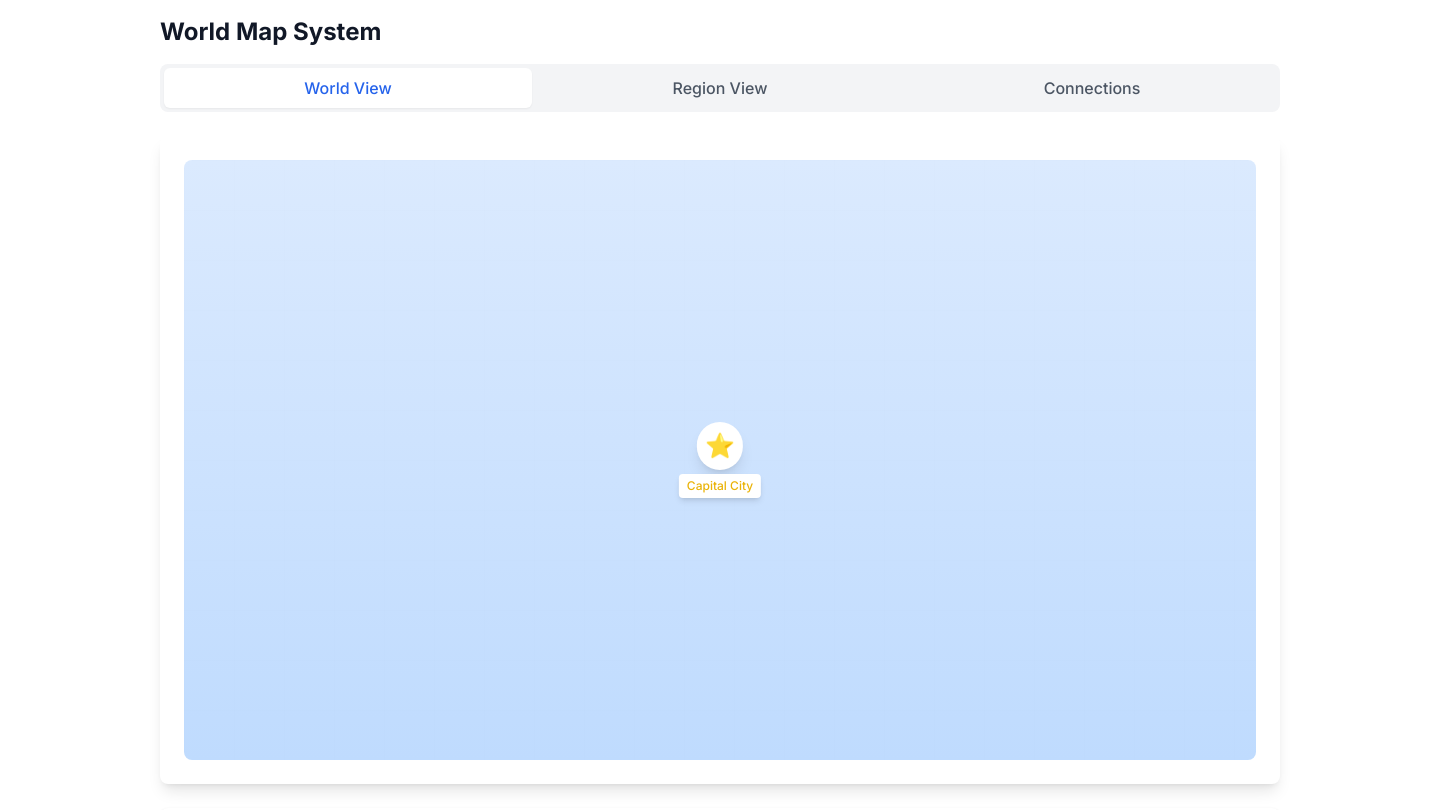
Test: WorldMapDisplay › Region View › should handle empty regions gracefully
Region Viewタブをクリック
What coordinates should you click on to do the following:
click the text "Region View"
I would click on:
 (720, 88)
Its box is [673, 78, 767, 98].
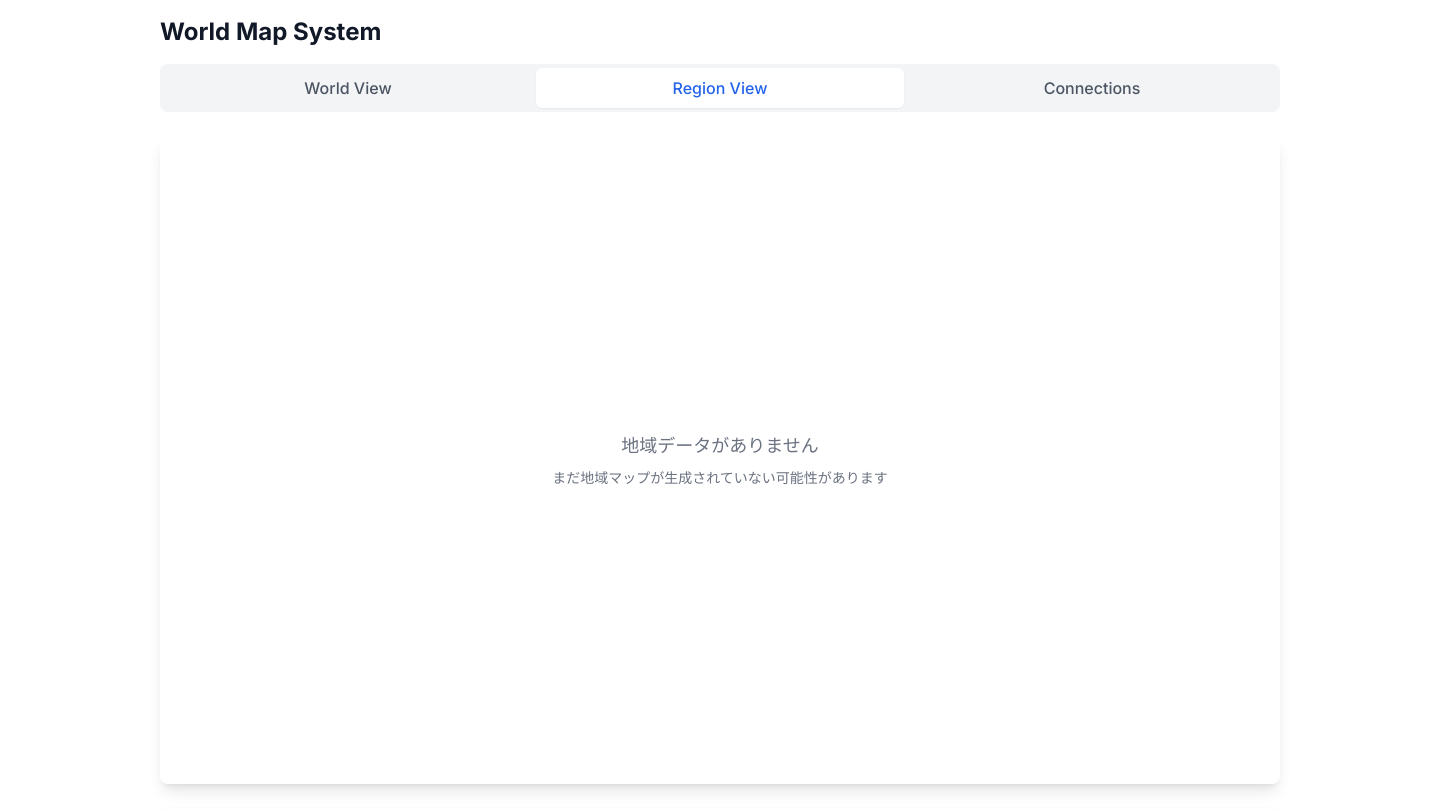
Check: the text "地域データがありません" is shown, box [621, 435, 819, 456]
